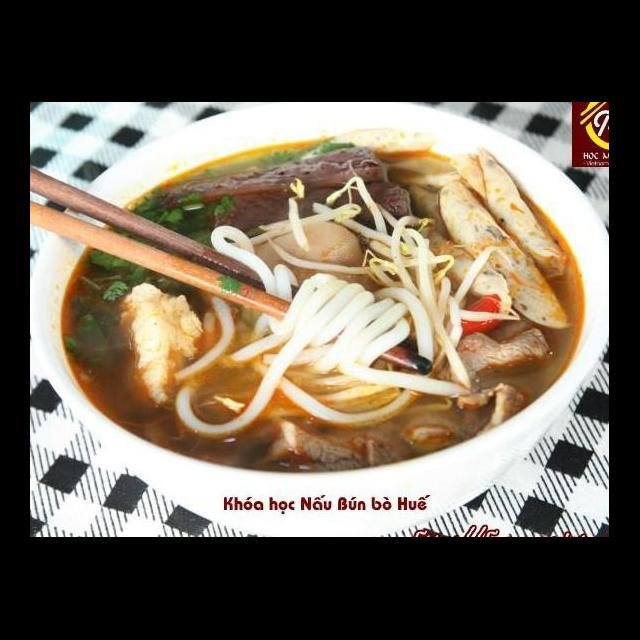bun: (189, 230, 486, 432)
bun bo: (93, 149, 581, 508)
thit bo: (321, 138, 479, 224), (440, 248, 546, 376)
